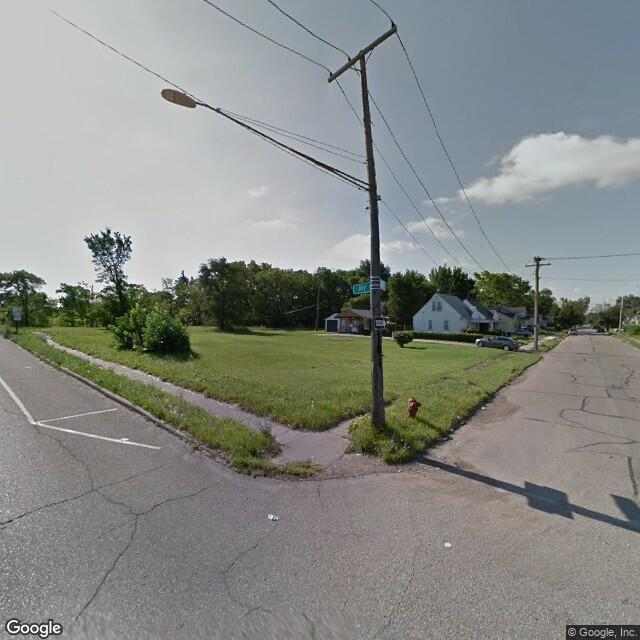litter: (263, 508, 284, 524), (472, 400, 493, 414), (442, 423, 461, 437)
